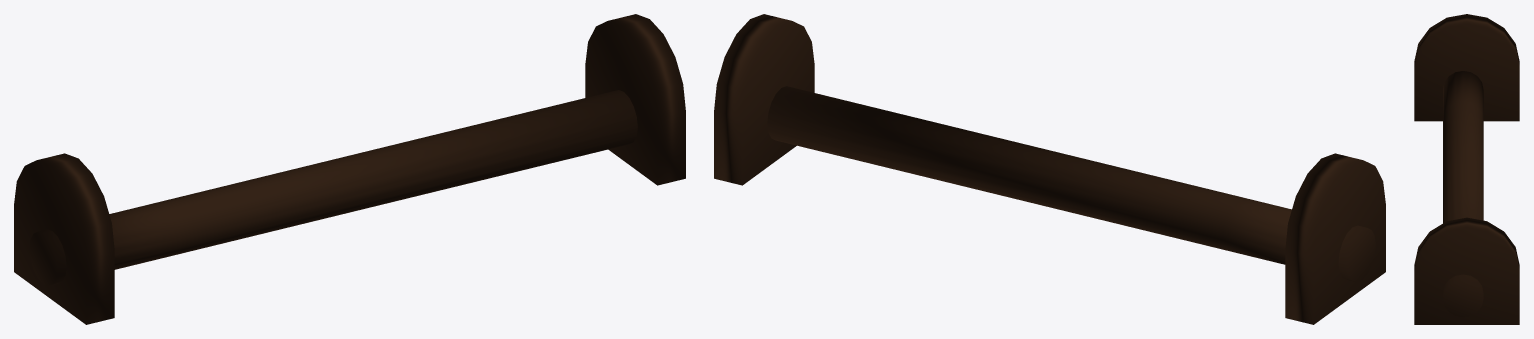
File: shaft2.glb
The picture shows the model from 3 angles, left to right: view 1: azimuth 30°, elevation 25°; view 2: azimuth 150°, elevation 25°; view 3: azimuth 270°, elevation 25°; orthographic projection. The views are drawn at different scales.
Parts seen in each view (by area): view 1: gearShaft.002; view 2: gearShaft.002; view 3: gearShaft.002.
Boxes of the visible parts, x1,y1,x2,y2 form: gearShaft.002: [14, 14, 685, 324]; gearShaft.002: [714, 14, 1385, 324]; gearShaft.002: [1414, 14, 1519, 324].
Size of the model in its own units: 1.99 by 0.404 by 0.3973.
